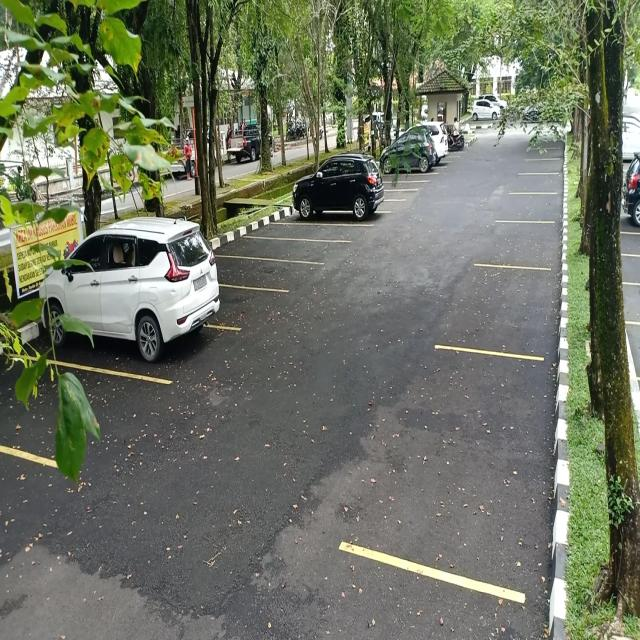empty: (407, 342, 545, 590), (464, 264, 552, 363), (485, 217, 557, 271), (219, 256, 309, 292), (234, 236, 312, 264), (259, 221, 352, 241)
occupied: (37, 257, 234, 377), (292, 172, 385, 227)
